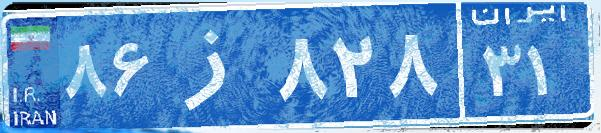1: (525, 38, 570, 115)
2: (330, 28, 385, 110)
3: (475, 38, 525, 113)
6: (110, 28, 158, 105)
8: (385, 28, 445, 110), (273, 28, 330, 110), (57, 26, 110, 107)
ز: (158, 15, 273, 115)
